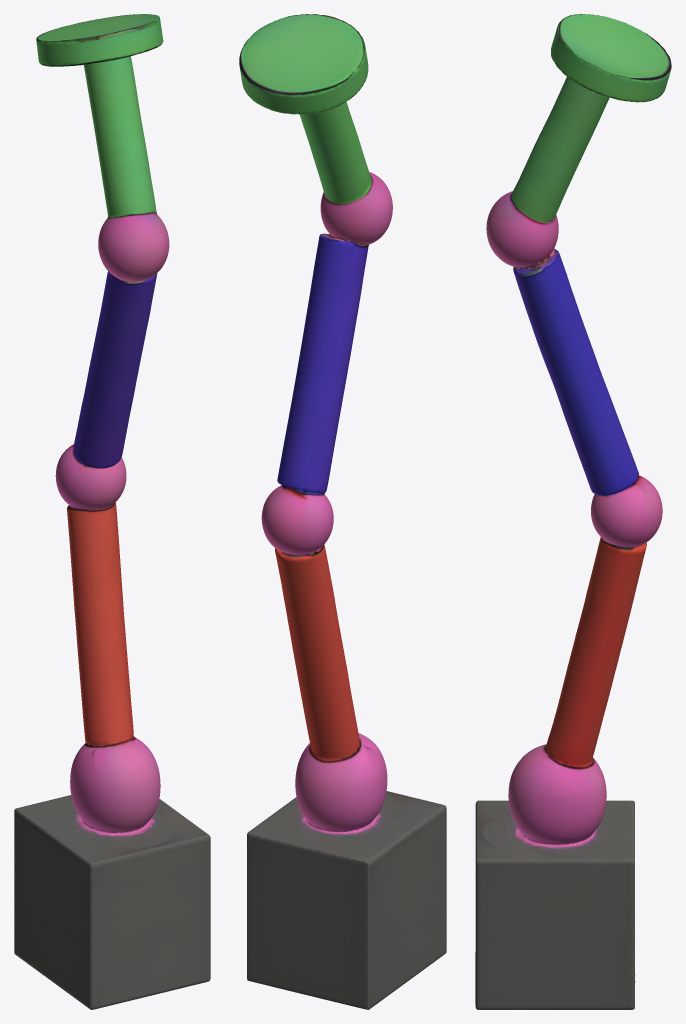
Rendered from hockey_v4.glb.
The picture shows the model from 3 angles, left to right: view 1: azimuth 30°, elevation 25°; view 2: azimuth 150°, elevation 25°; view 3: azimuth 270°, elevation 25°; orthographic projection. The views are drawn at different scales.
Visible parts, largest first — view 1: tripo_node_94ecae01-8d01-451c-b945-87f0bc9eb1ea; view 2: tripo_node_94ecae01-8d01-451c-b945-87f0bc9eb1ea; view 3: tripo_node_94ecae01-8d01-451c-b945-87f0bc9eb1ea.
Boxes of the visible parts, left/top/right/bottom form: tripo_node_94ecae01-8d01-451c-b945-87f0bc9eb1ea: left=14, top=14, right=210, bottom=1009; tripo_node_94ecae01-8d01-451c-b945-87f0bc9eb1ea: left=239, top=14, right=446, bottom=1009; tripo_node_94ecae01-8d01-451c-b945-87f0bc9eb1ea: left=475, top=14, right=671, bottom=1009.
Bounding box in the file's own units: 0.1468 × 1 × 0.1853.
1 material, 1 textured.
